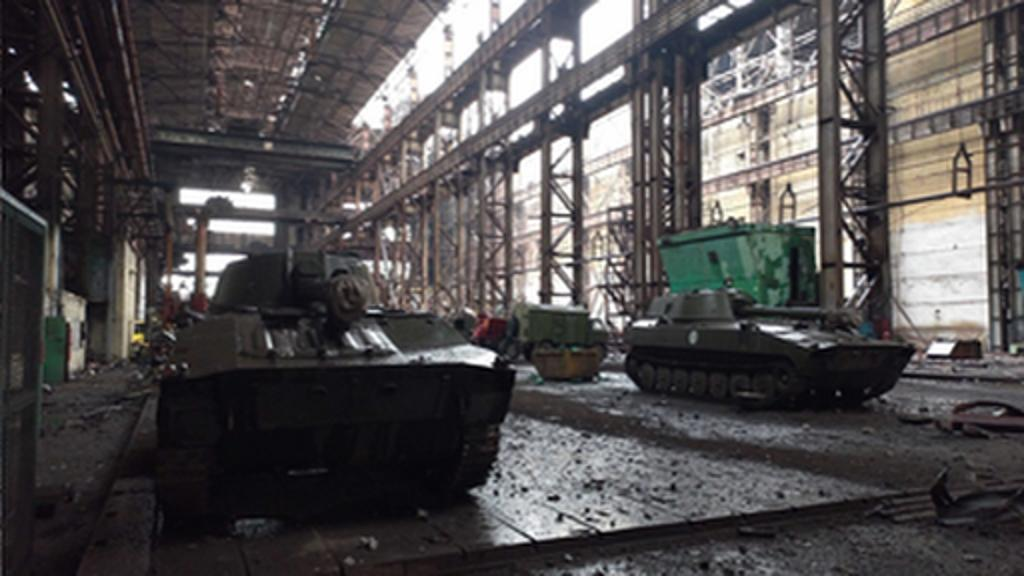ART: (138, 218, 524, 516), (612, 280, 918, 416)
TRUCK: (514, 304, 610, 360)
